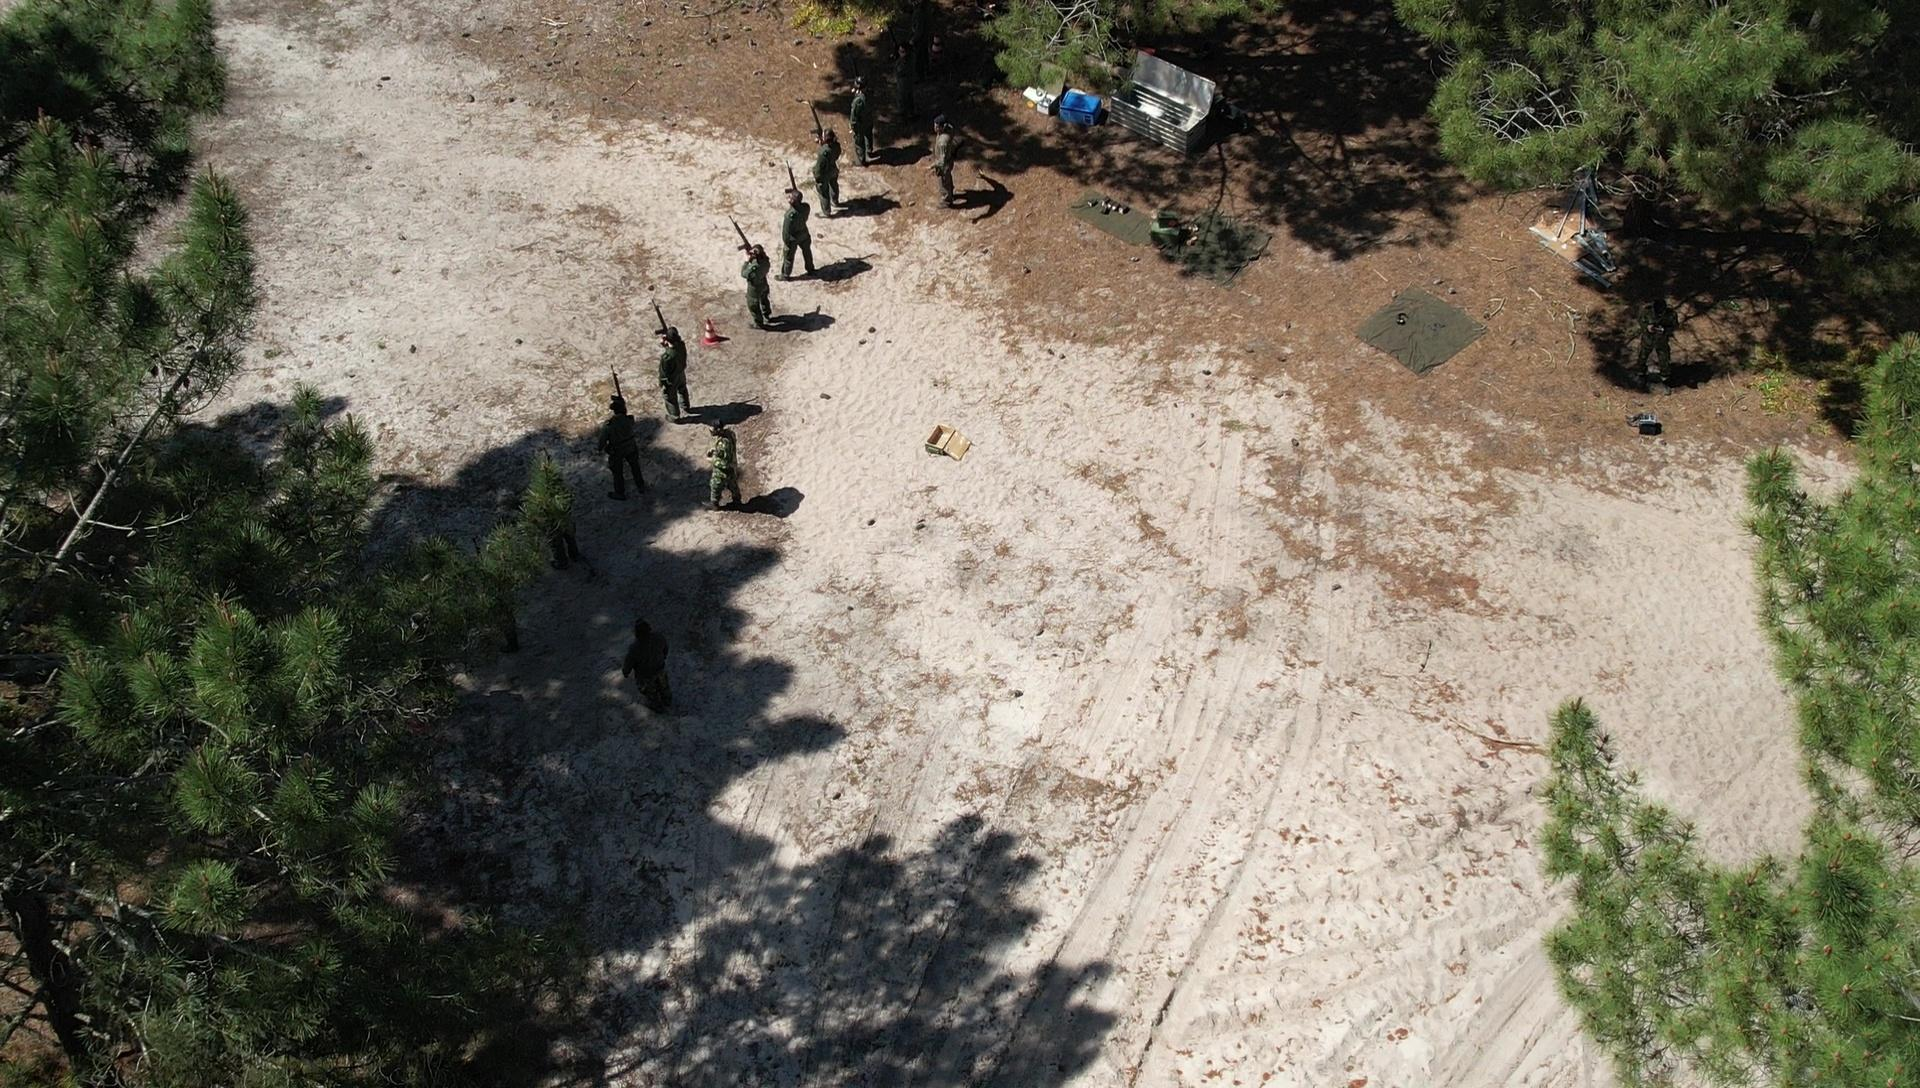Soldier: (588, 365, 655, 516), (613, 613, 676, 721), (642, 305, 694, 431), (1626, 286, 1683, 400), (729, 222, 782, 335), (773, 167, 818, 295), (692, 422, 752, 516), (916, 104, 956, 222), (807, 102, 847, 218), (844, 75, 874, 170)
